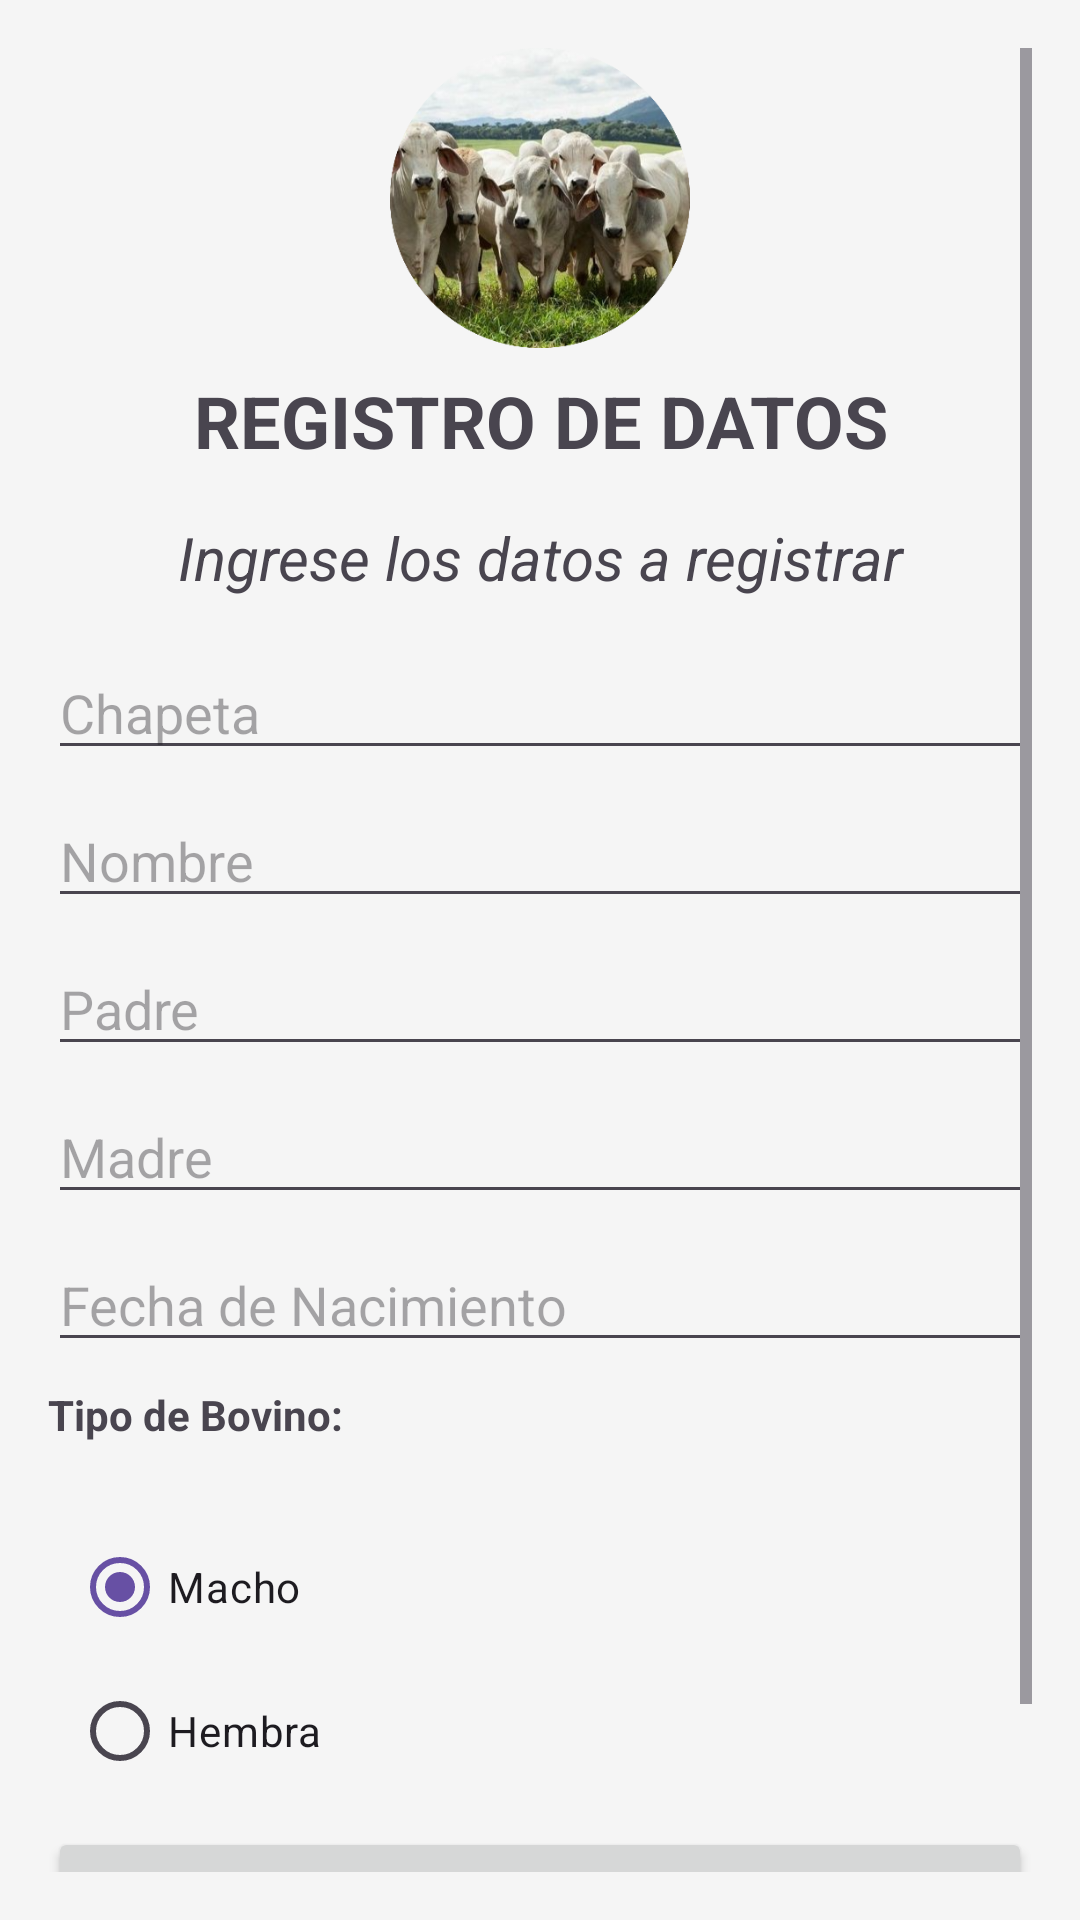

Where to tap for icons on this 1080x1920 app screen, as [x,y]:
regisfotor: [540,207]
